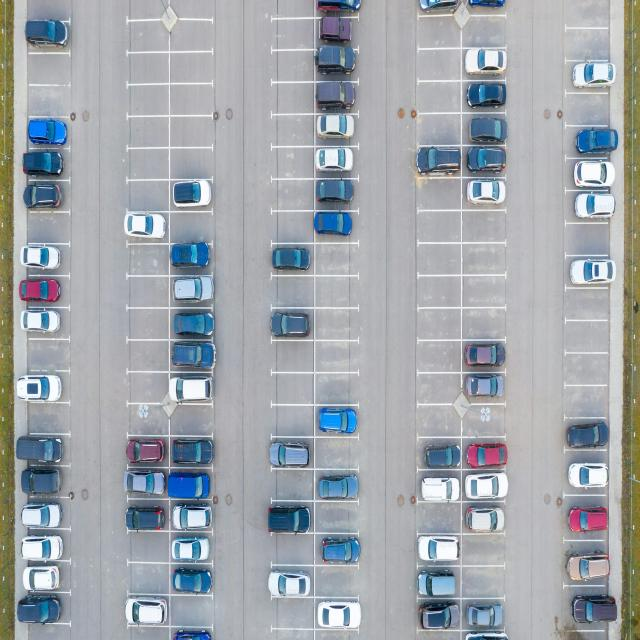libre: (125, 0, 215, 176), (415, 178, 460, 438), (268, 2, 312, 246), (127, 243, 170, 434), (314, 245, 362, 402), (562, 288, 611, 418), (416, 13, 462, 149), (462, 211, 507, 344), (266, 339, 316, 438), (30, 51, 73, 122), (126, 530, 169, 594), (465, 533, 506, 597), (565, 8, 608, 58), (459, 8, 510, 50), (564, 219, 614, 261), (267, 598, 315, 640), (461, 400, 509, 442), (268, 464, 314, 504), (314, 564, 364, 598), (28, 208, 71, 247), (414, 500, 462, 534), (273, 272, 314, 311), (314, 500, 360, 534), (314, 440, 362, 472), (24, 338, 70, 371), (269, 535, 317, 565), (128, 182, 170, 215), (173, 405, 215, 437), (564, 96, 608, 125), (170, 597, 211, 628), (26, 405, 74, 431), (170, 212, 216, 238), (21, 622, 79, 640), (26, 0, 69, 21), (127, 622, 172, 640)
ocupado: (563, 419, 619, 640), (16, 434, 78, 626), (317, 0, 364, 240), (461, 51, 514, 207), (168, 437, 218, 597), (170, 240, 216, 402), (561, 125, 621, 221), (414, 539, 465, 640), (19, 245, 72, 334), (21, 122, 74, 208), (122, 437, 168, 530), (464, 448, 508, 532), (465, 341, 508, 400), (417, 445, 460, 503), (264, 501, 318, 541), (317, 600, 371, 634), (120, 212, 170, 244), (266, 311, 314, 344), (412, 144, 458, 178), (469, 600, 507, 640), (26, 22, 74, 52), (560, 263, 617, 288), (121, 597, 170, 626), (564, 60, 611, 90), (320, 540, 364, 572), (266, 247, 314, 276), (270, 570, 313, 602), (320, 405, 359, 440), (13, 378, 65, 402), (170, 184, 220, 207), (316, 474, 362, 498), (413, 0, 513, 11), (269, 442, 312, 466), (173, 629, 216, 640)
